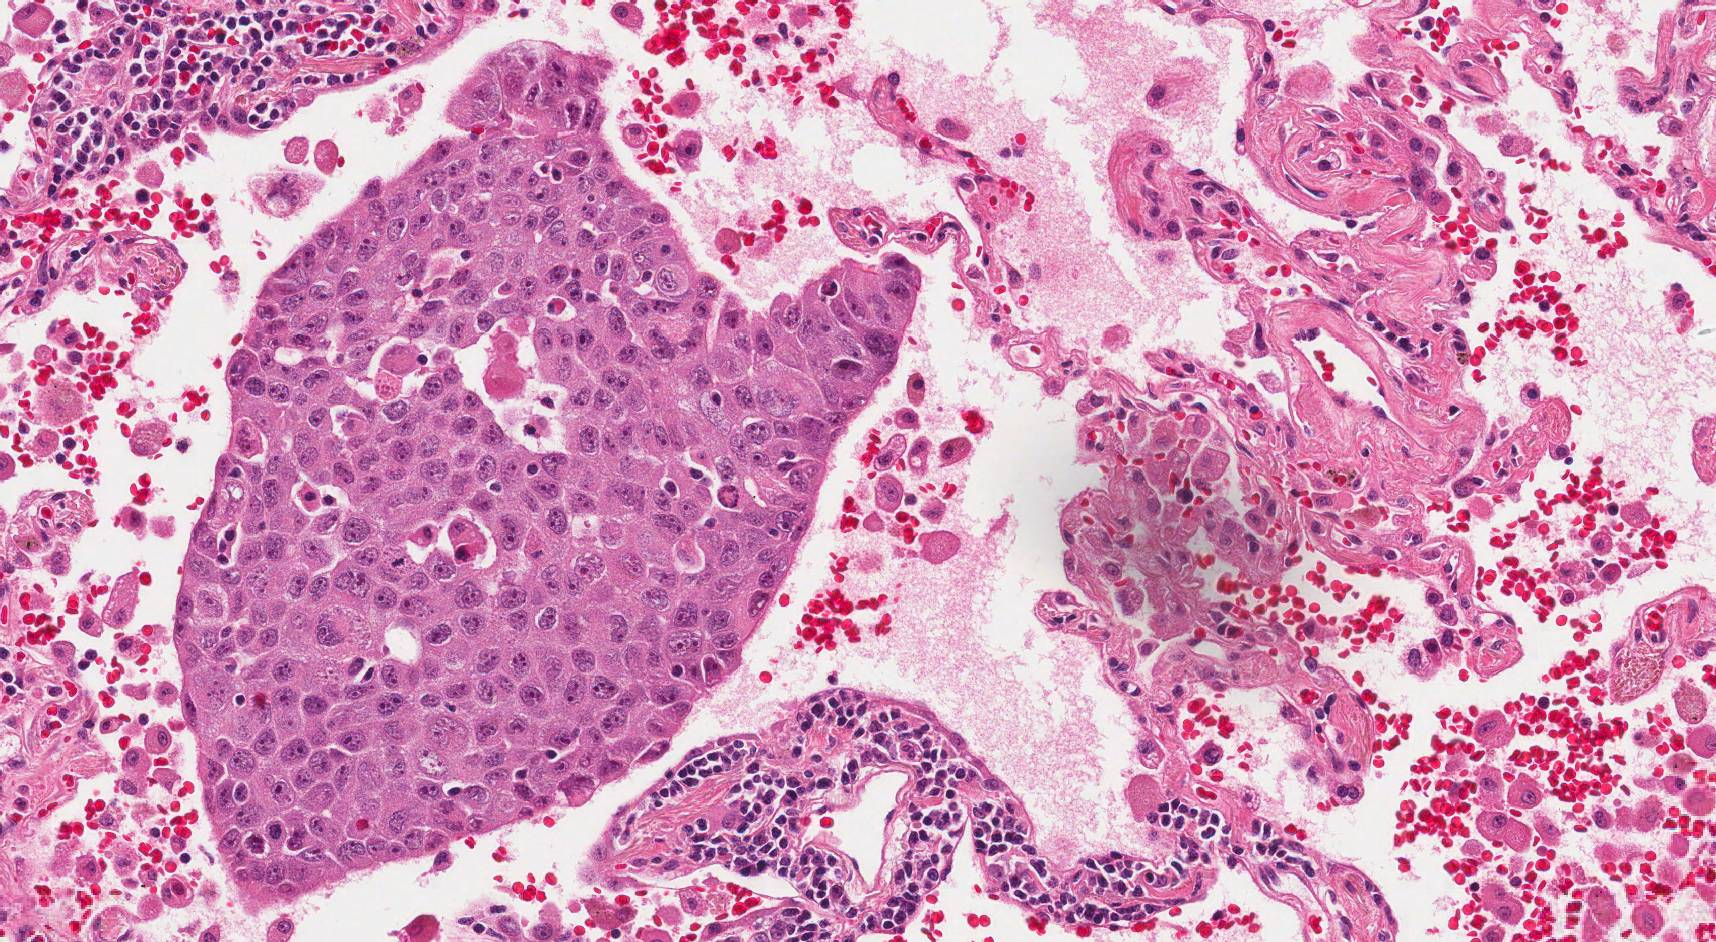stas: (174, 41, 921, 907)
